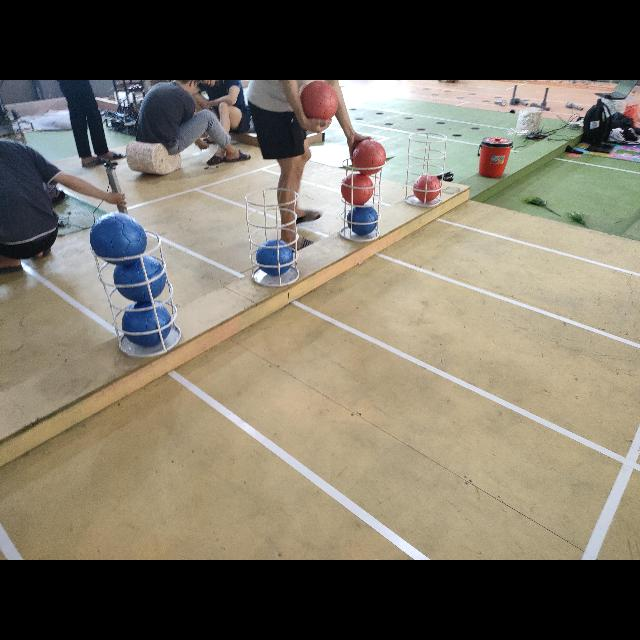B: (90, 212, 146, 264), (121, 304, 171, 348), (114, 260, 166, 302), (256, 240, 292, 274), (347, 205, 379, 235)
R: (352, 139, 386, 173), (341, 173, 374, 204), (413, 174, 441, 202)
